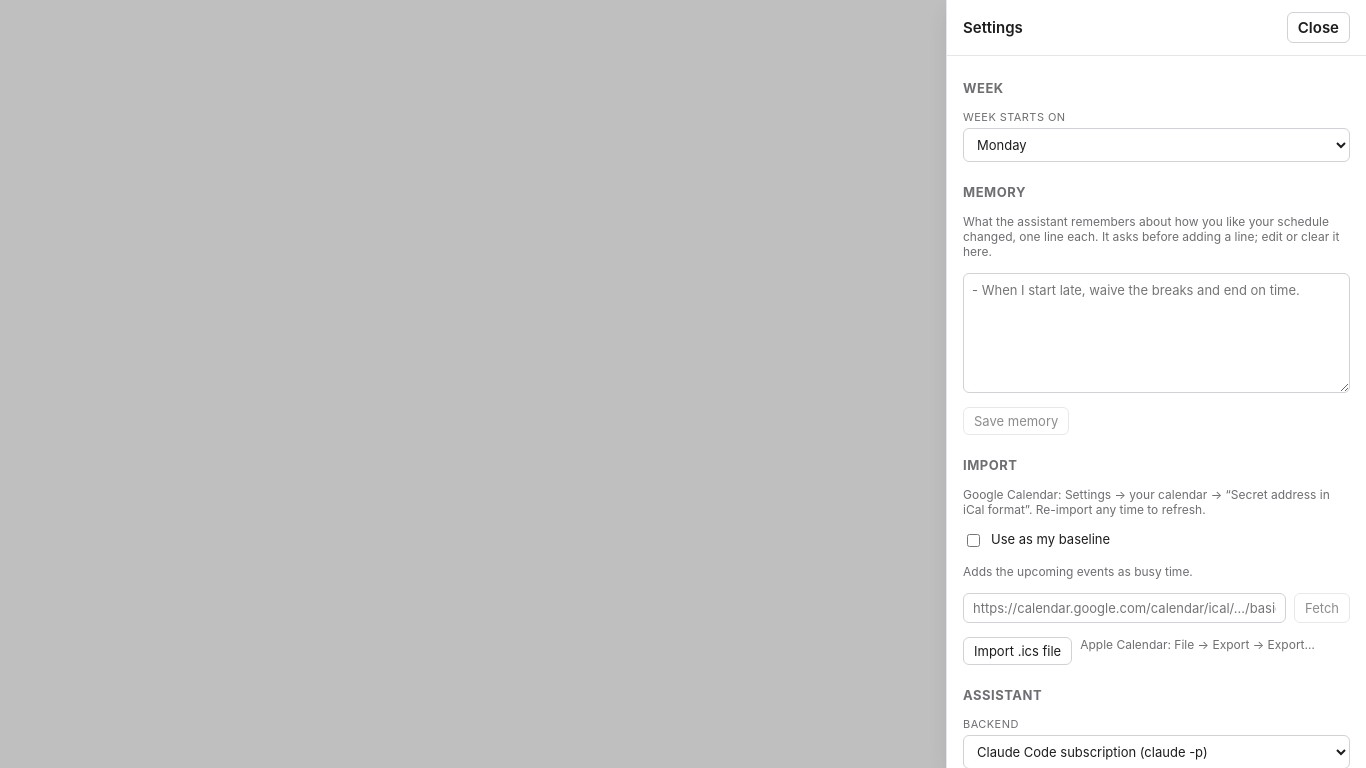
Test case: SettingsPanel: the memory note › a note saved by typing (user-event) reaches the API character for character
Expected: the dialog "Settings" is shown, [946,0,1365,767]
Type "- Keep lunch at noon." into the text box named "Memory" at (1156, 333), box [963,273,1350,393]
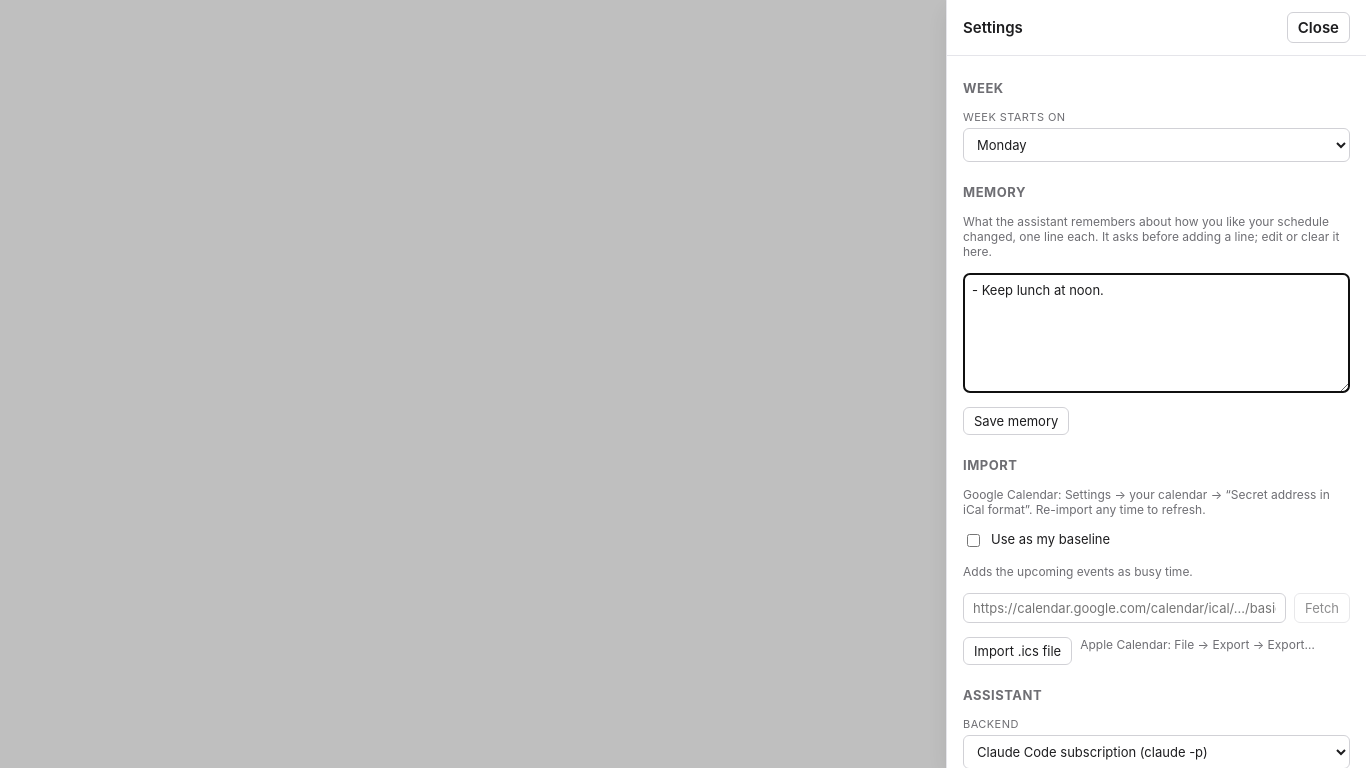
Click the button "Save memory" at (1016, 421), box [963,407,1069,435]
(page scrolled)
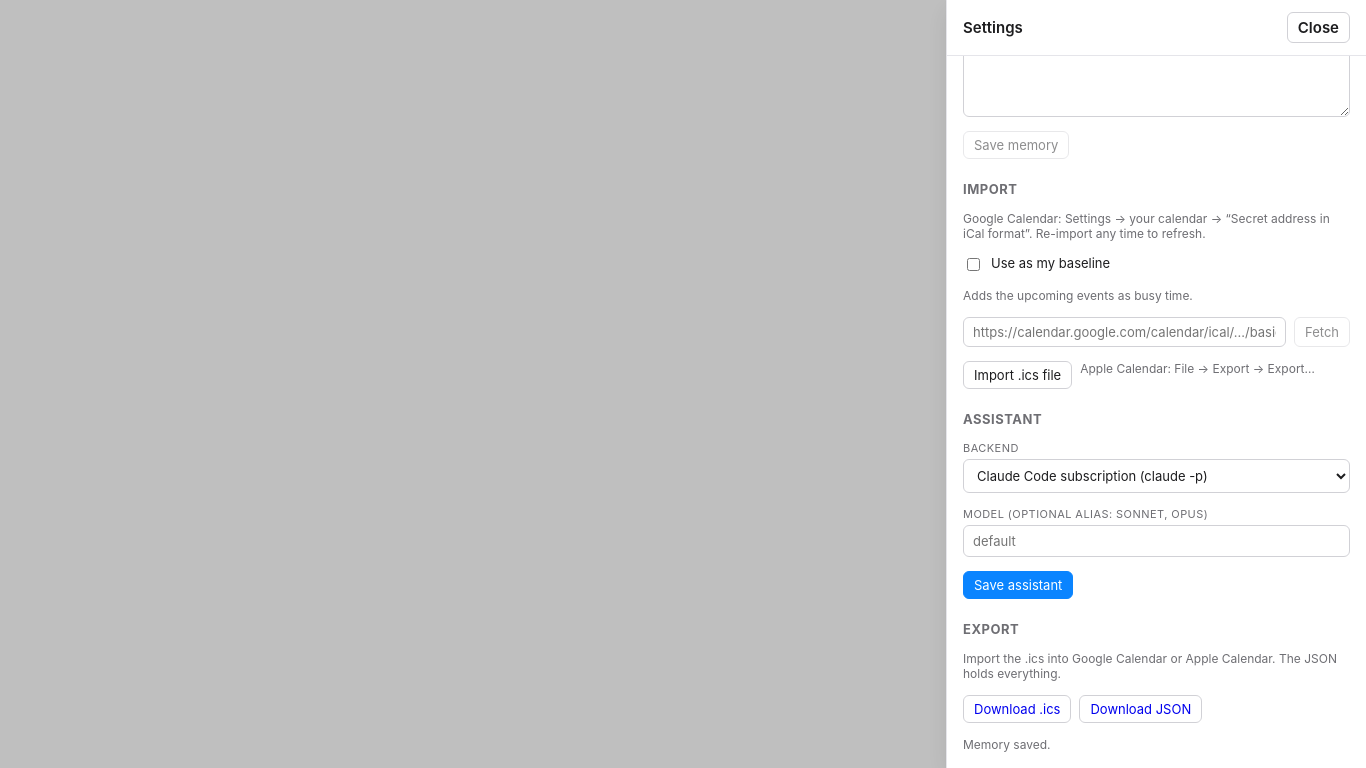
Expected: the text "Memory saved." is shown, [963,737,1051,752]
